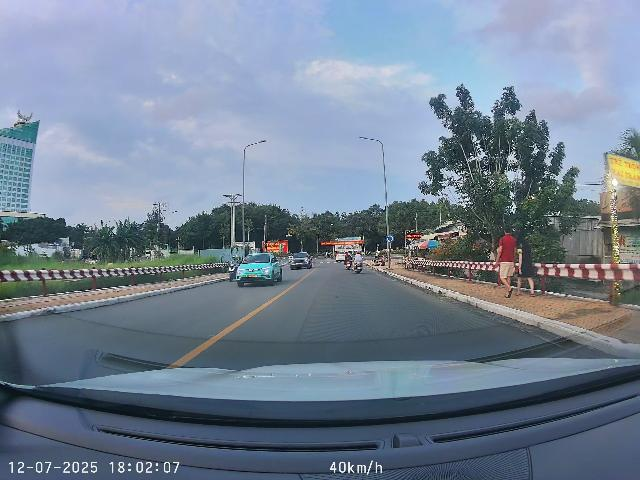303-noi-giao-nhau-chay-theo-vong-xuyen: (385, 234, 395, 243)
